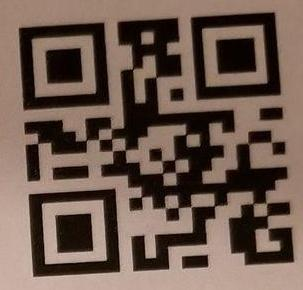qrcode: (18, 13, 296, 279)
